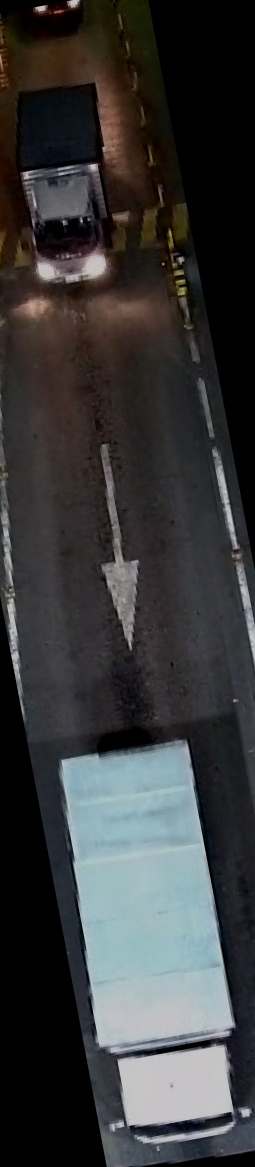truck: (35, 707, 255, 1159), (0, 69, 159, 307)
